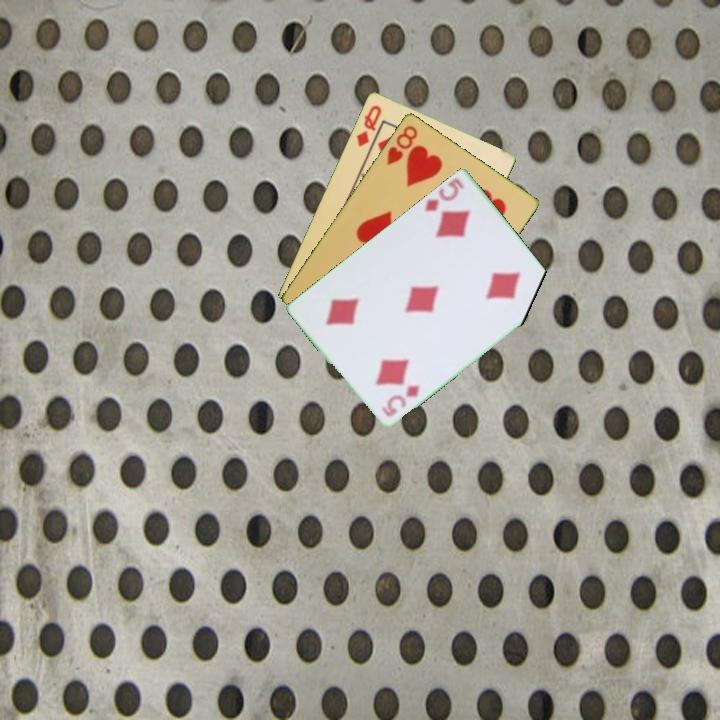5d: (421, 174, 467, 214), (378, 381, 424, 419)
8h: (383, 121, 421, 168)
Qd: (353, 101, 385, 150)
